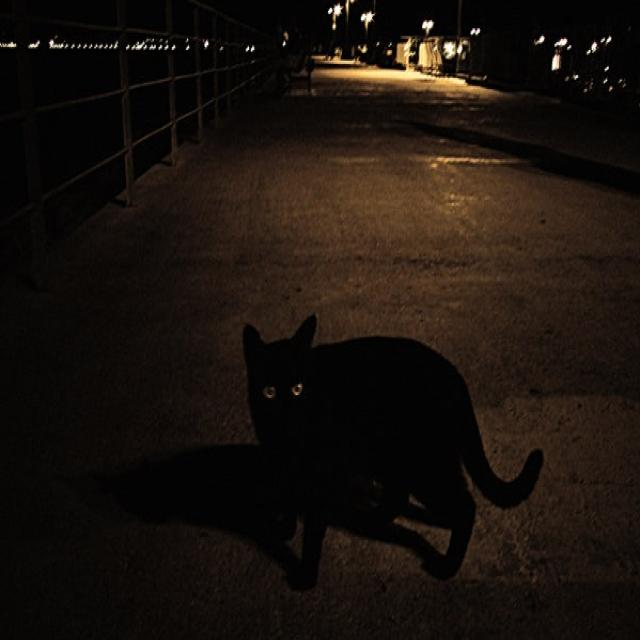Cat: (232, 305, 551, 591)
